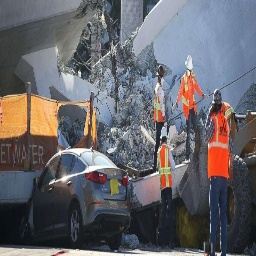helmet: (185, 53, 193, 71), (157, 62, 165, 79), (160, 124, 169, 139)
person: (205, 90, 231, 254), (158, 126, 177, 251), (182, 54, 199, 168), (153, 67, 167, 124)
vest: (211, 116, 229, 179), (159, 147, 172, 189), (184, 76, 196, 116)
